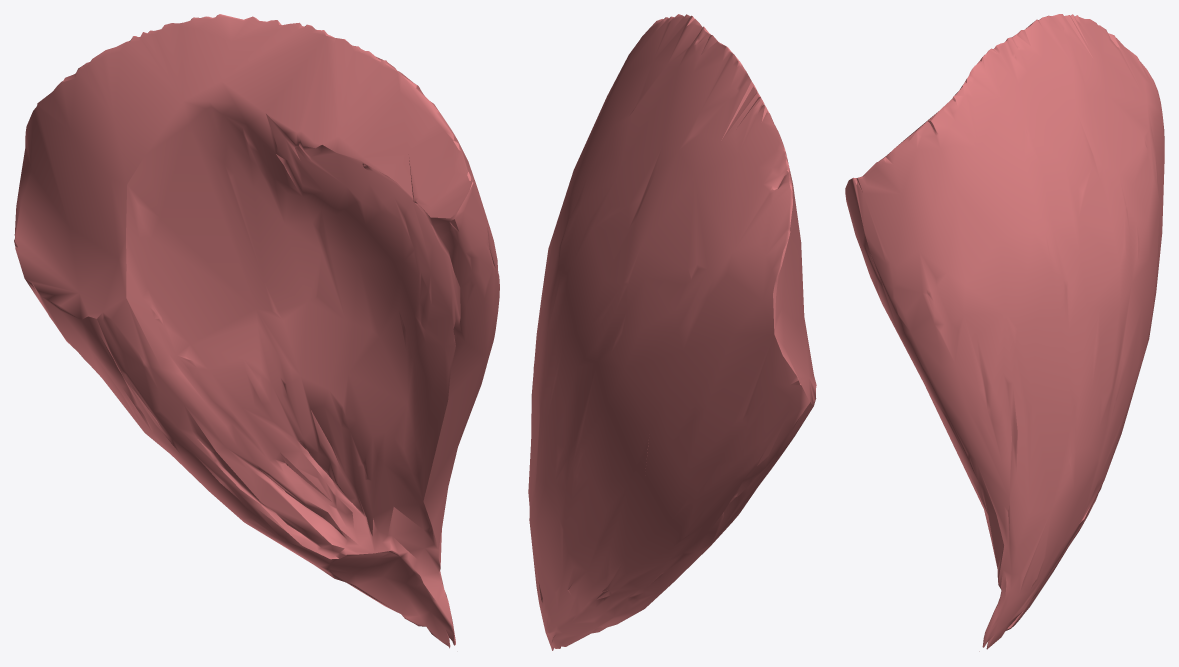
3 renders of one model, left to right at view 1: azimuth 30°, elevation 25°; view 2: azimuth 150°, elevation 25°; view 3: azimuth 270°, elevation 25°, orthographic. The views are drawn at different scales.
Parts seen in each view (by area): view 1: FJ1419M; view 2: FJ1419M; view 3: FJ1419M.
Part boxes in pixels (x1,y1,x2,y2): FJ1419M: (14, 14, 499, 648); FJ1419M: (528, 14, 816, 650); FJ1419M: (845, 14, 1164, 651).
Bounding box in the file's own units: 0.0897 × 0.1613 × 0.0846.
